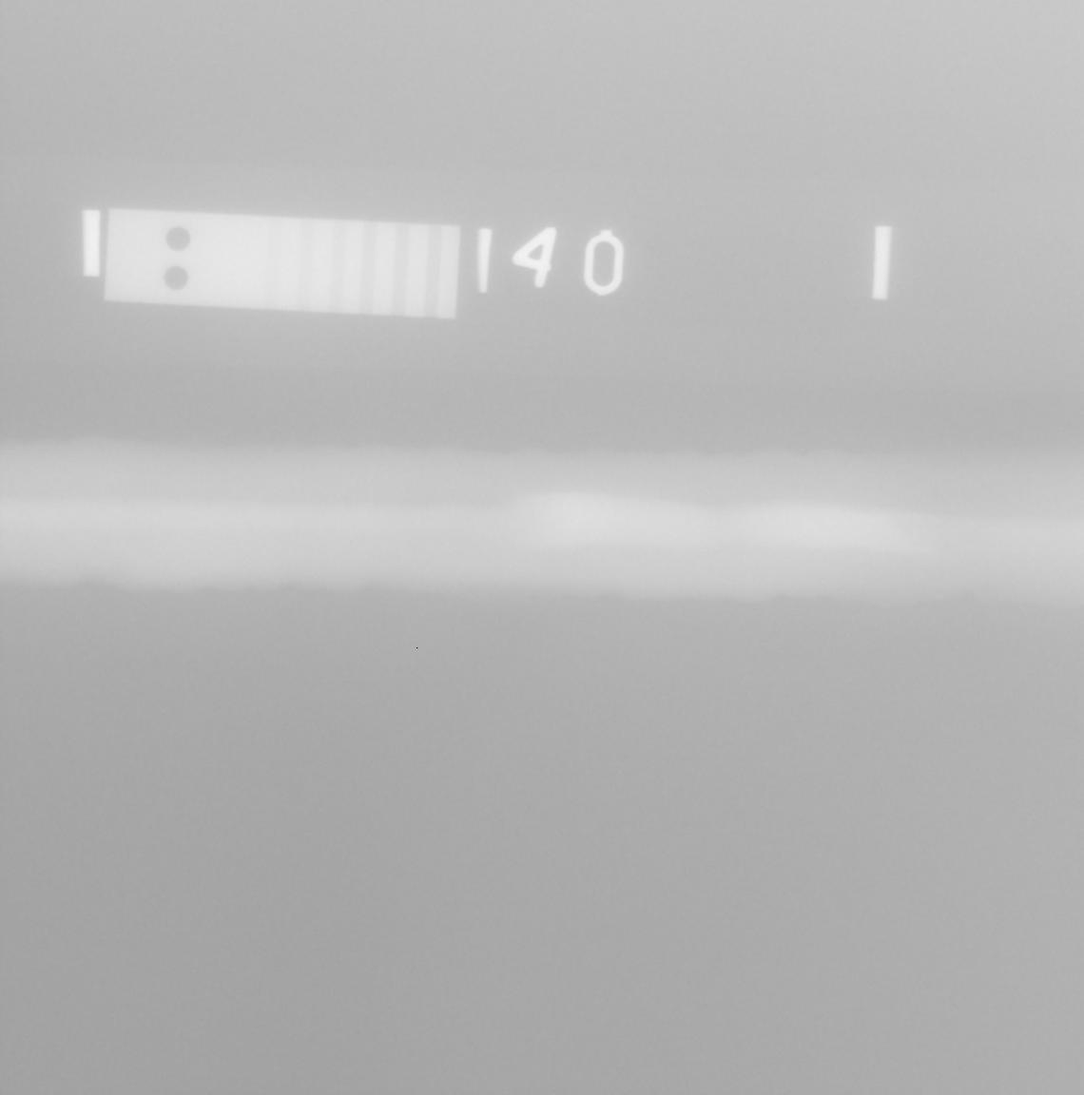Reference Standard 2: (104, 207, 462, 320)
